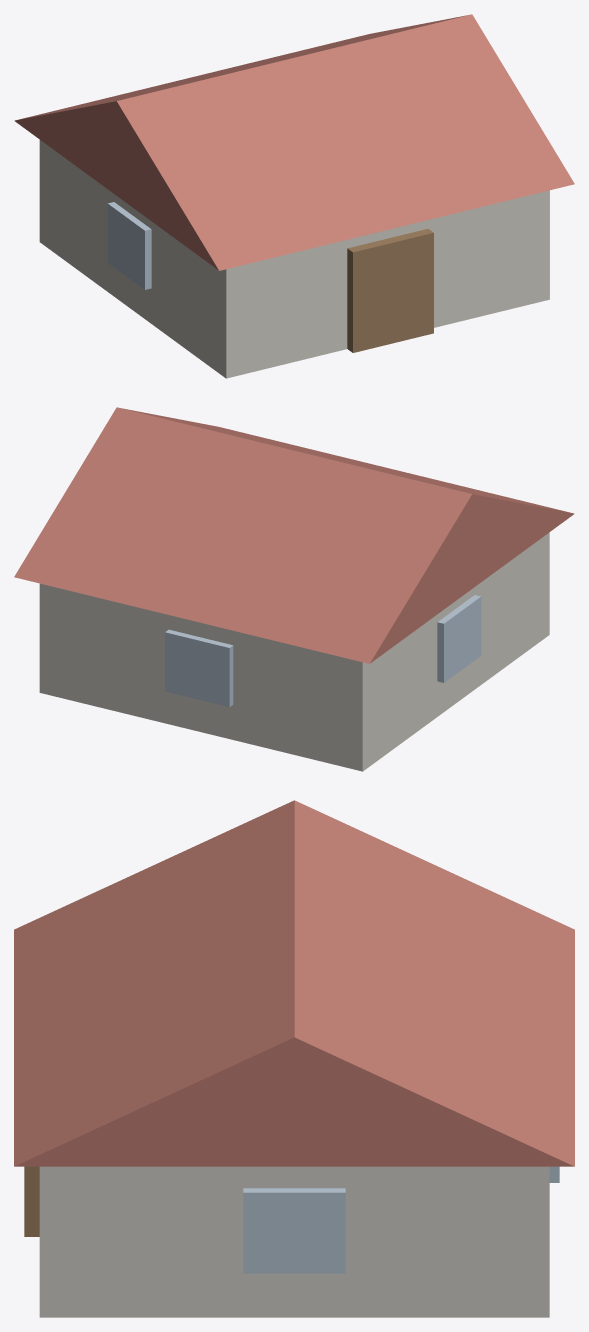
Rendered from House_1x1_1F.glb.
The picture shows the model from 3 angles, top to bottom: view 1: azimuth 30°, elevation 25°; view 2: azimuth 150°, elevation 25°; view 3: azimuth 270°, elevation 25°; orthographic projection. The views are drawn at different scales.
Visible parts, largest first — view 1: House_1x1_1F; view 2: House_1x1_1F; view 3: House_1x1_1F.
Part boxes in pixels (bbox=[...]): House_1x1_1F: bbox=[14, 14, 574, 378]; House_1x1_1F: bbox=[14, 407, 574, 771]; House_1x1_1F: bbox=[14, 800, 574, 1317].
Bounding box in the file's own units: 1.1 × 0.63 × 1.1.
